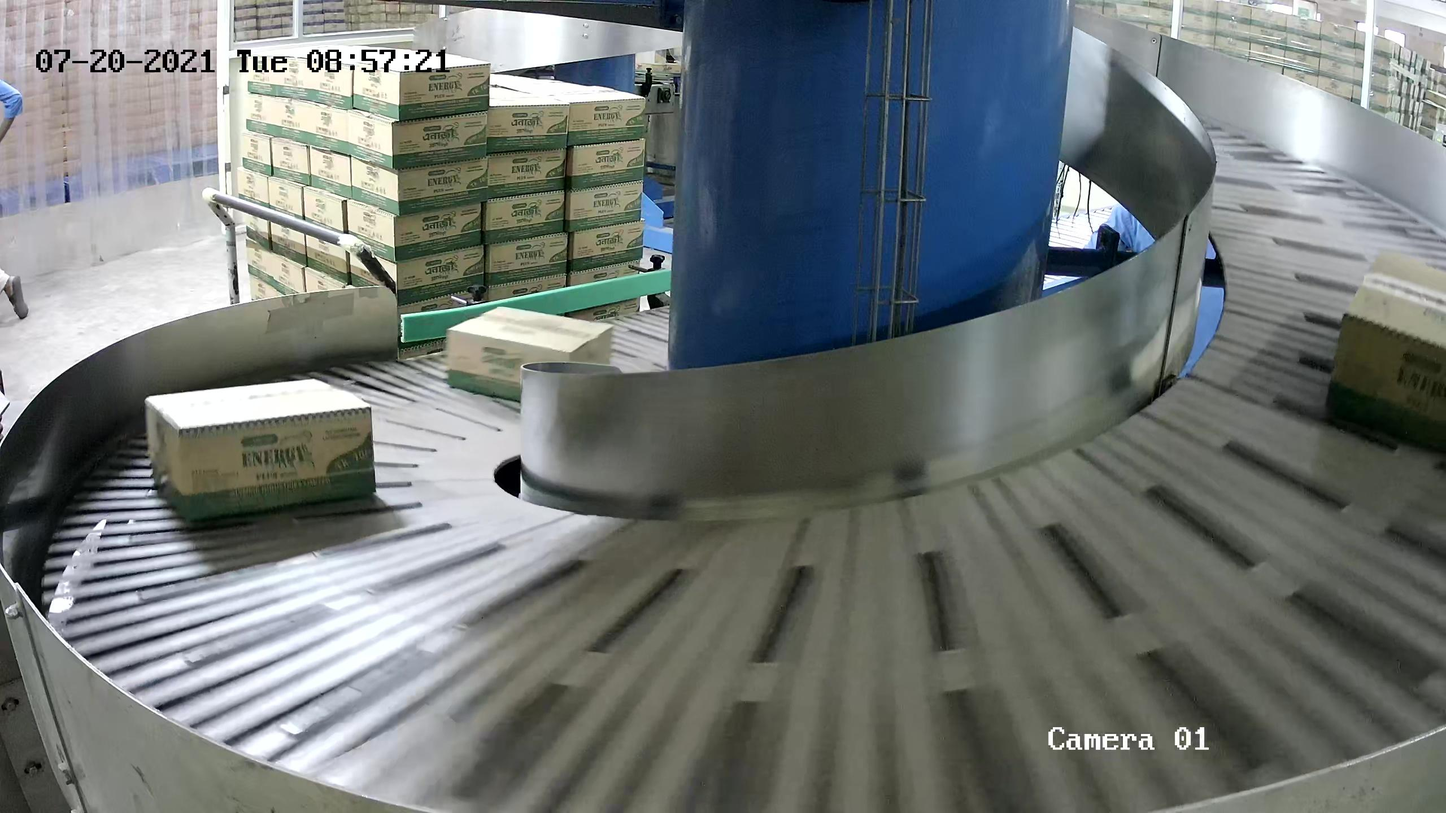Box: (145, 379, 378, 523), (1323, 250, 1446, 462), (445, 305, 615, 407)
